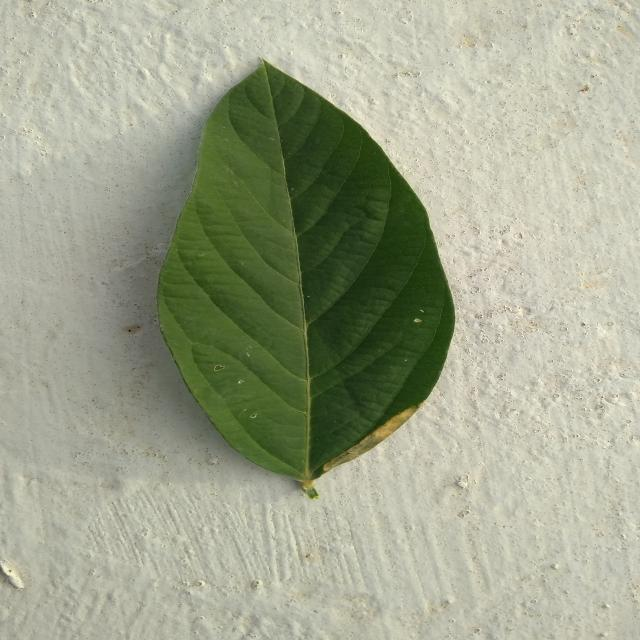pea: (158, 61, 456, 498)
